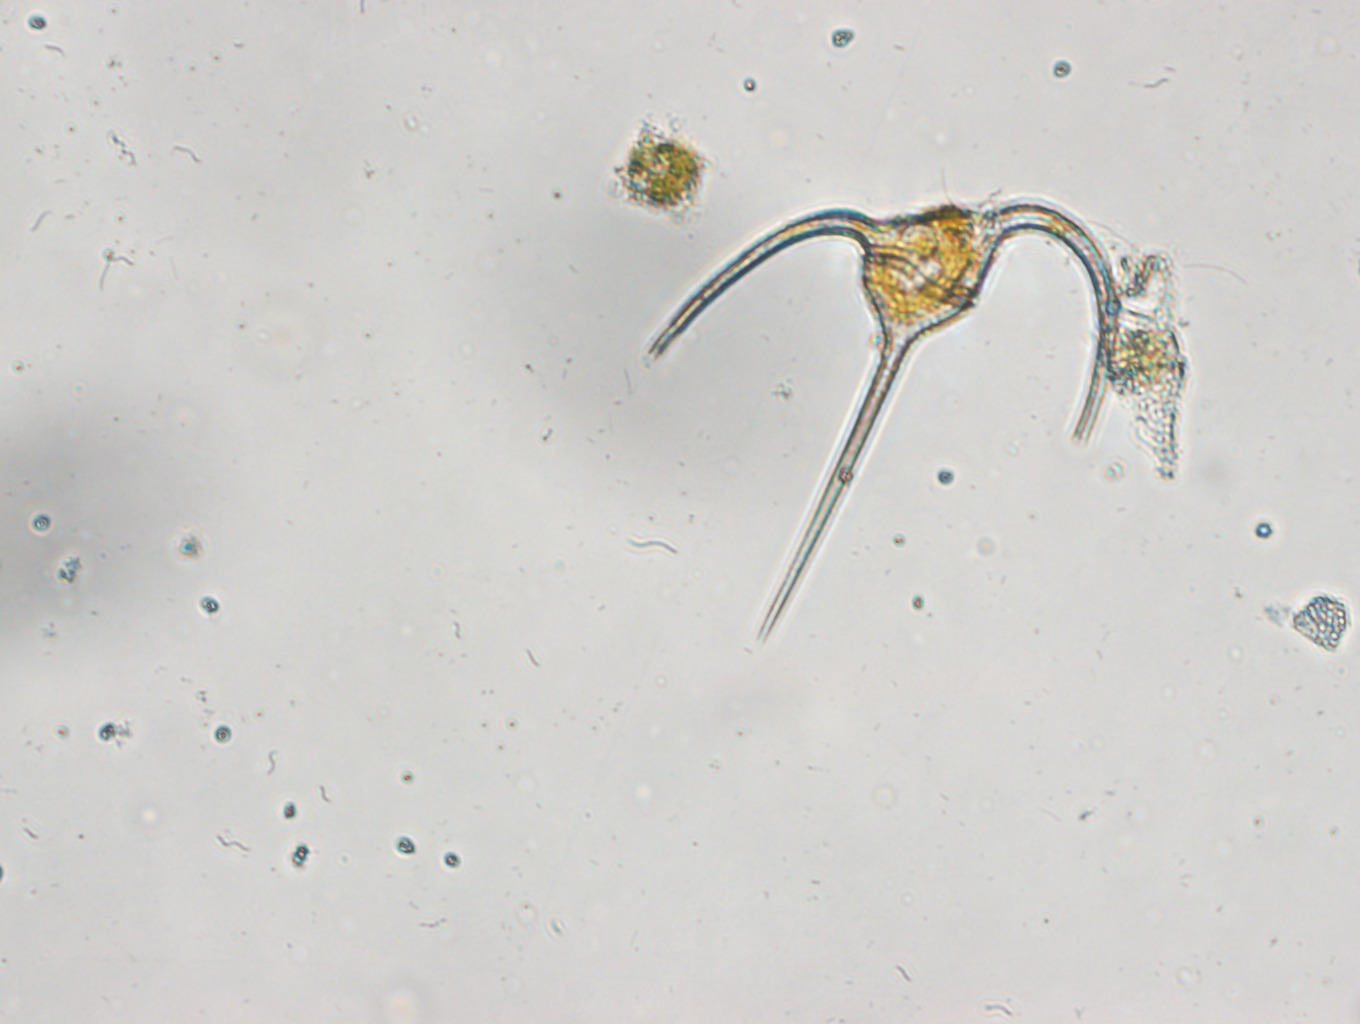ceratium trichoceros: (632, 187, 1126, 648)
